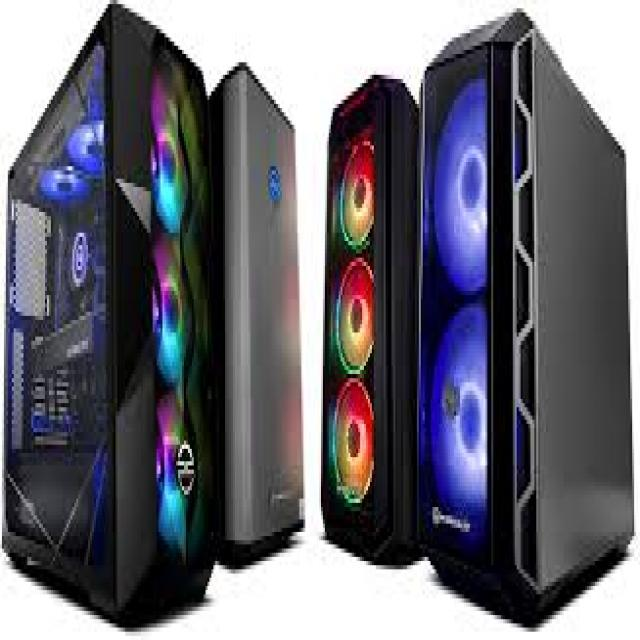Computer: (420, 16, 635, 631), (0, 0, 210, 626), (320, 65, 418, 583), (216, 50, 301, 567)
